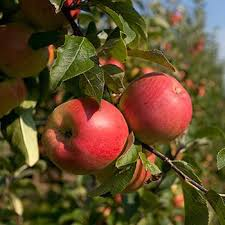apple: (43, 102, 134, 176), (126, 77, 198, 142)
